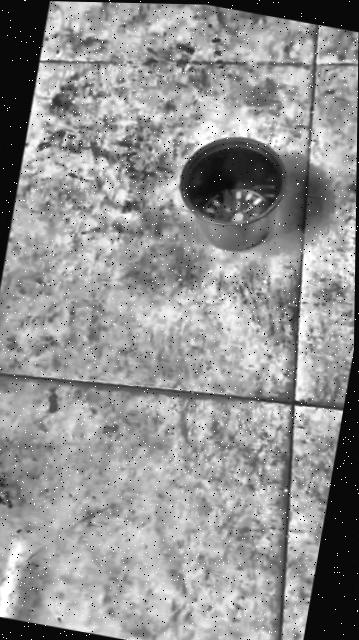pot: (167, 127, 291, 259)
